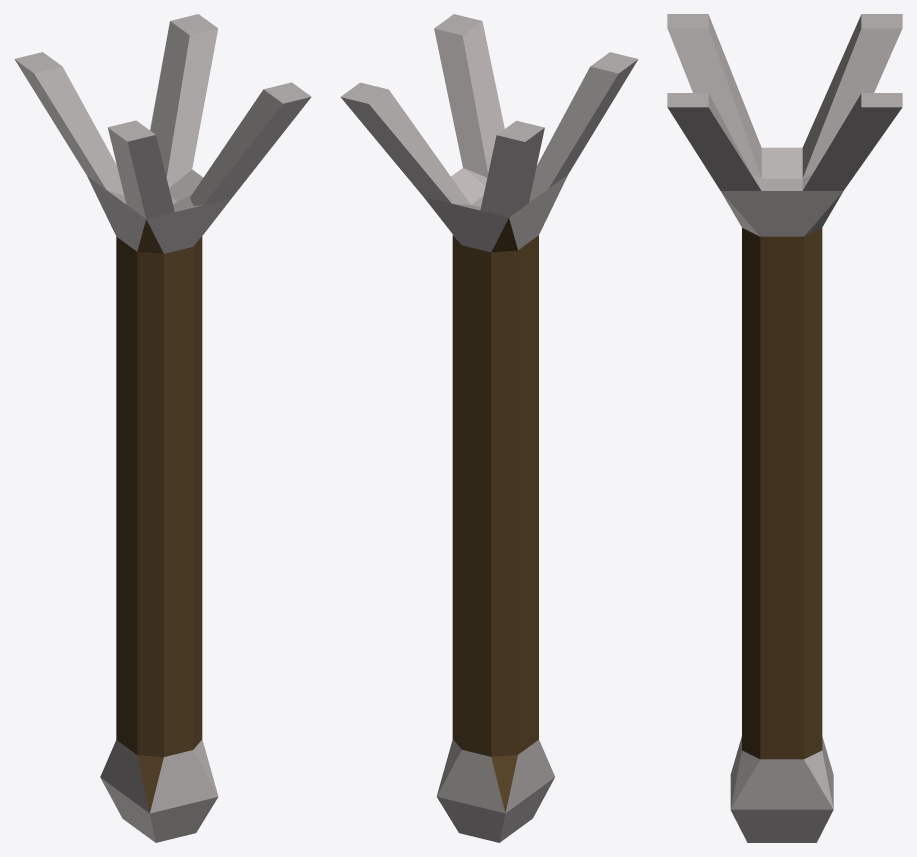
File: torch.fbx
3 renders of one model, left to right at view 1: azimuth 30°, elevation 25°; view 2: azimuth 150°, elevation 25°; view 3: azimuth 270°, elevation 25°, orthographic. The views are drawn at different scales.
Parts seen in each view (by area): view 1: troch; view 2: troch; view 3: troch.
Boxes of the visible parts, x1,y1,x2,y2 form: troch: (14, 14, 311, 842); troch: (340, 14, 638, 842); troch: (667, 14, 902, 842).
Size of the model in its own units: 43.45 by 168 by 46.22.
